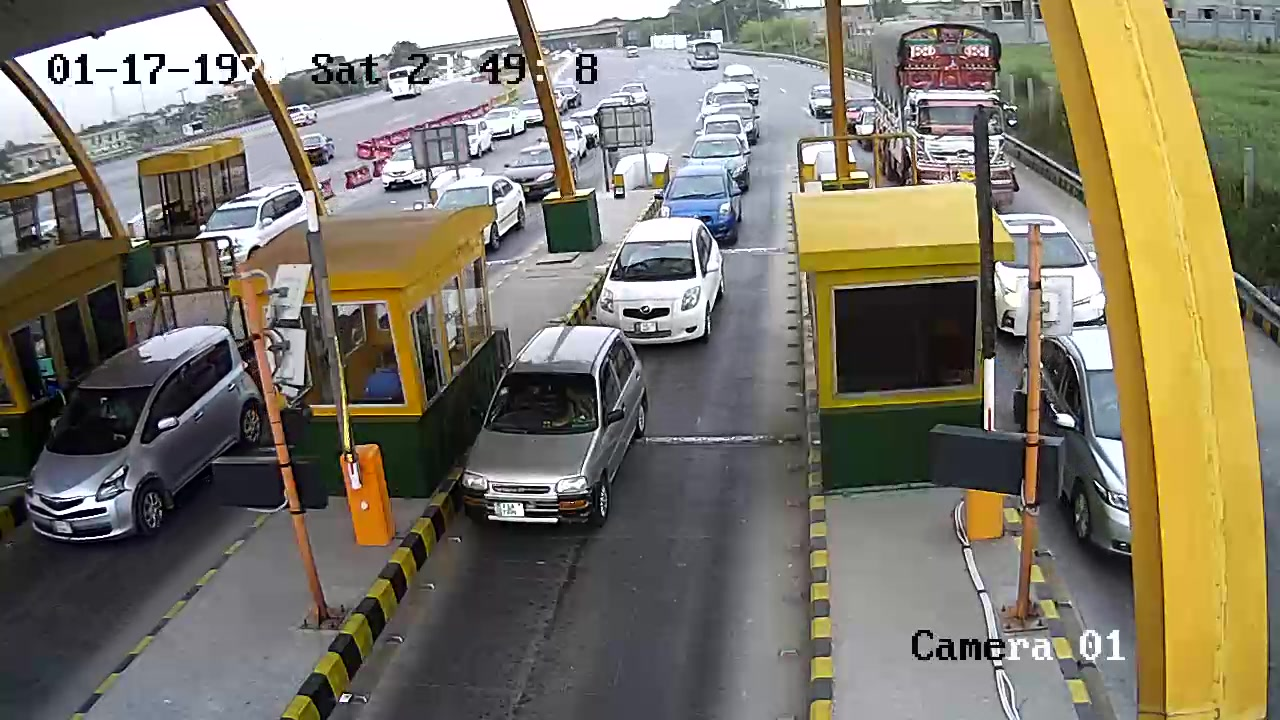F1: (454, 323, 649, 535), (583, 217, 736, 361)
